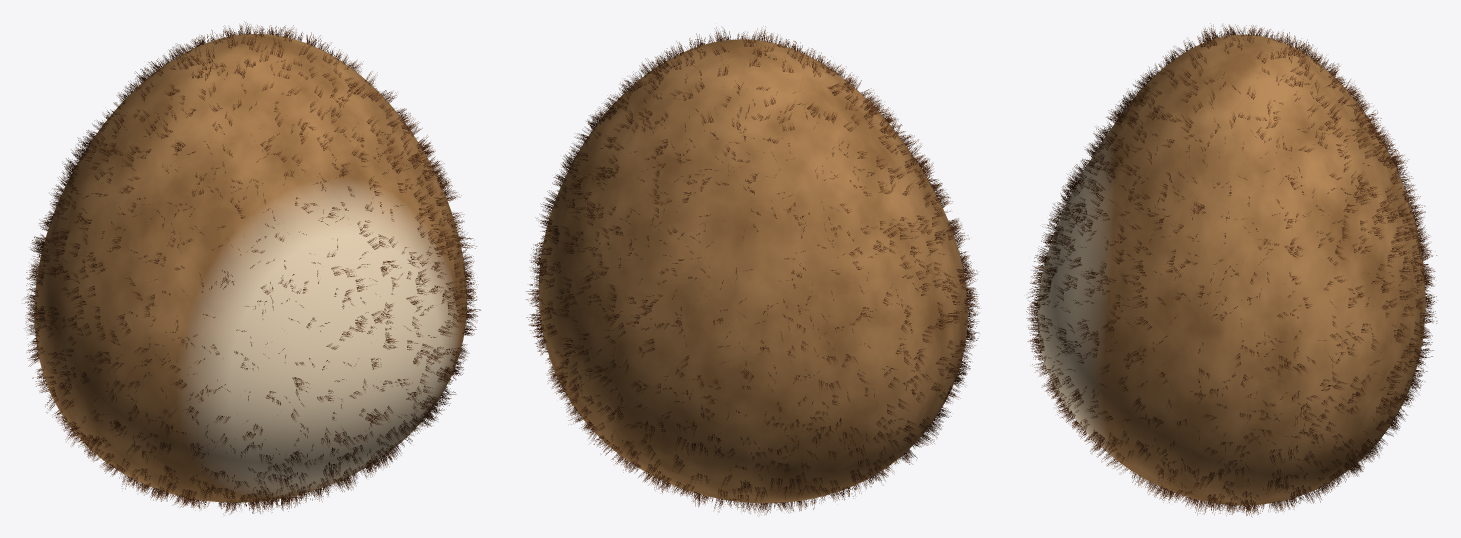
Rendered from TeddyBear_Torso.fbx.
3 renders of one model, left to right at view 1: azimuth 30°, elevation 25°; view 2: azimuth 150°, elevation 25°; view 3: azimuth 270°, elevation 25°, orthographic.
Visible parts, largest first — view 1: Torso, Torso_Fur; view 2: Torso, Torso_Fur; view 3: Torso, Torso_Fur.
Boxes of the visible parts, box(x1,y1,x2,y2) form: Torso: box(34, 34, 466, 502); Torso_Fur: box(24, 21, 480, 515); Torso: box(538, 39, 967, 503); Torso_Fur: box(526, 26, 979, 515); Torso: box(1037, 34, 1425, 505); Torso_Fur: box(1026, 23, 1437, 517).
Bounding box in the file's own units: 0.5742 × 0.616 × 0.5091.
Materials: 2 (2 with a texture image).
